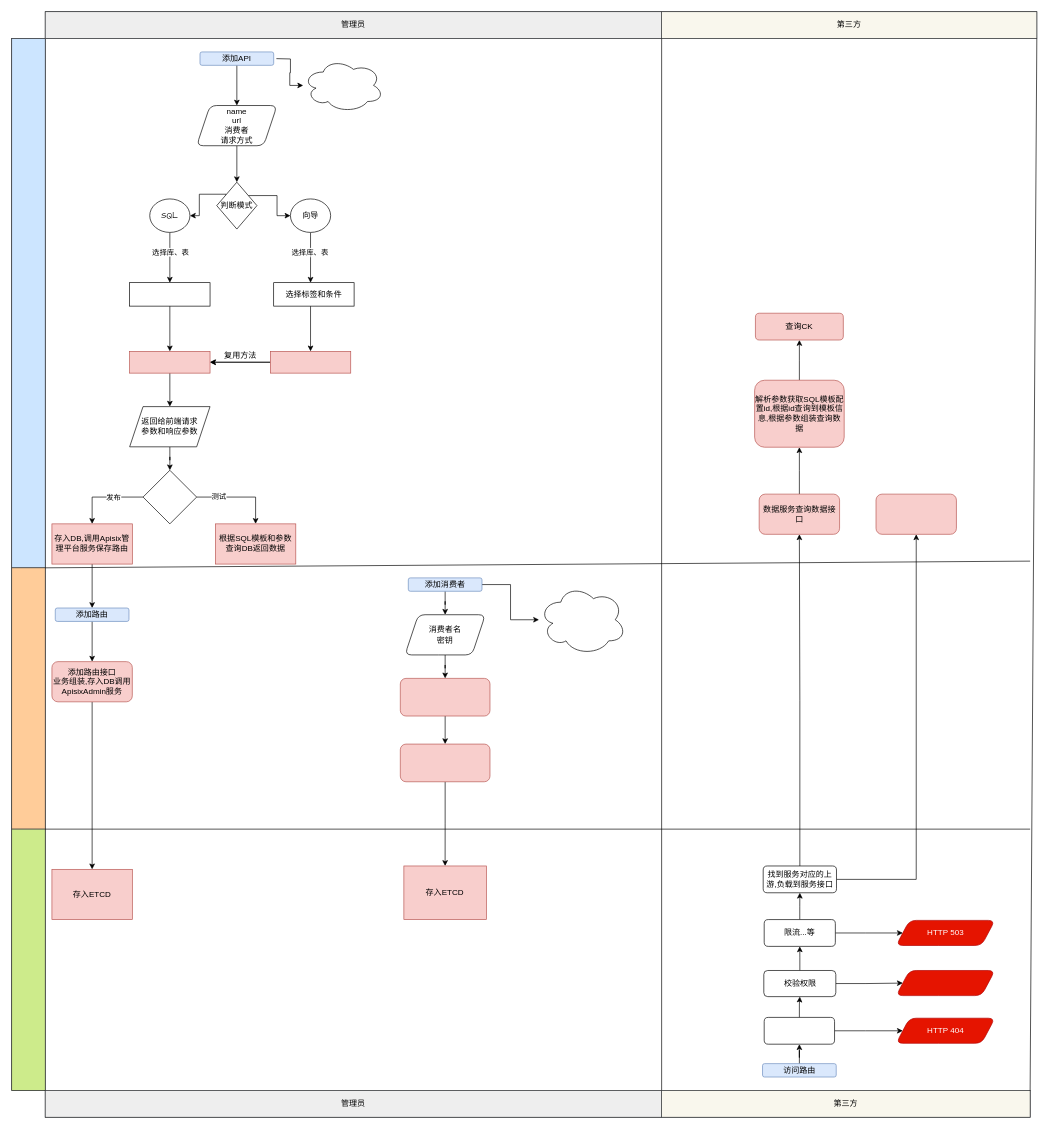
Some shapes in this 1049 by 1129 pixel diagram are drawn without their labels. Each missing label, with the box of its shape:
ApiSix 服 务: (11, 828, 45, 1090)
ApiSix 管 理 平 台 服 务: (11, 567, 45, 829)
HTTP 401: (895, 970, 995, 996)
其他接口....: (875, 493, 956, 534)
后端解析SQL: (129, 351, 210, 373)
后端解析生成SQL: (270, 351, 351, 373)
填写SQL: (129, 282, 210, 306)
填写对外url 选择消费者: (303, 58, 384, 112)
存入DB,调用Apisix管理平台服务保存消费者: (400, 678, 490, 716)
数 据 服 务: (11, 38, 45, 568)
校验路由是否存在: (764, 1017, 835, 1044)
测试 ？ 发布: (142, 470, 197, 524)
添加消费者接口 业务组装,存入DB调 用ApisixAdmin服务: (400, 743, 490, 782)
这边消费者名 只能是英文且不能 重复,如果需要扩展 可以修改: (538, 584, 626, 655)
